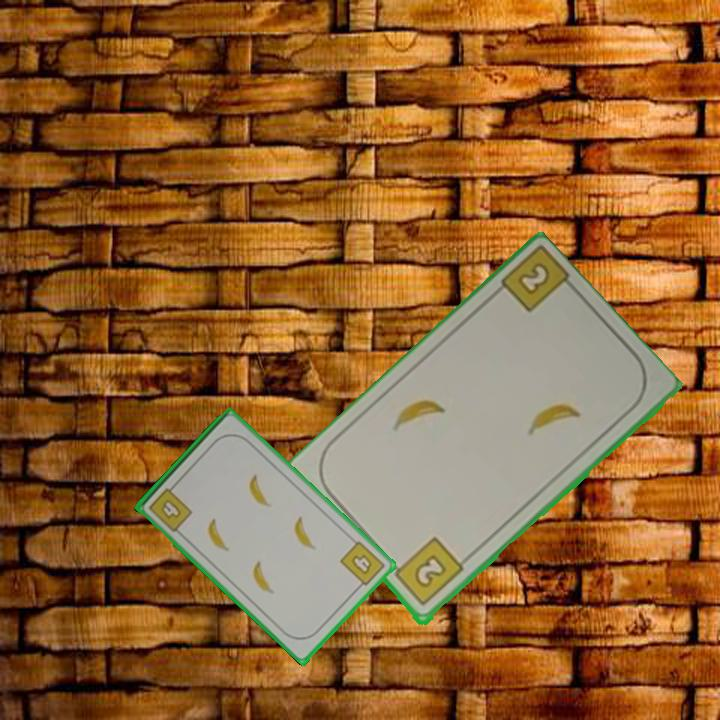2b: (387, 534, 467, 610), (513, 259, 553, 299)
4b: (336, 537, 388, 593), (145, 480, 195, 535)
